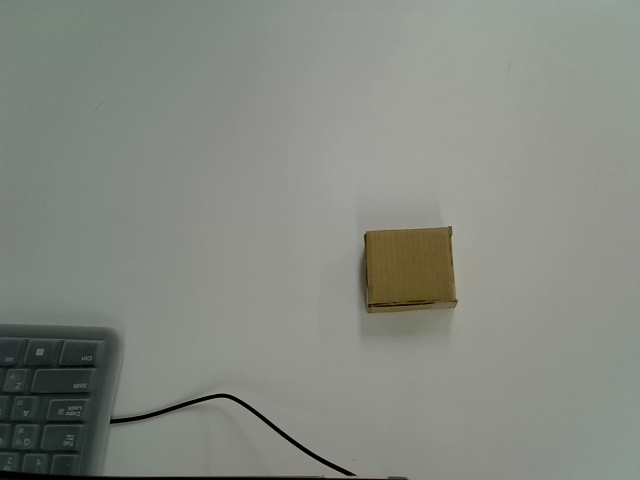normal: (364, 227, 458, 313)
